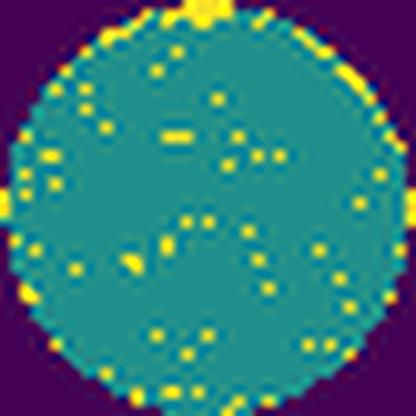Edge-Loc: (158, 0, 236, 36)
